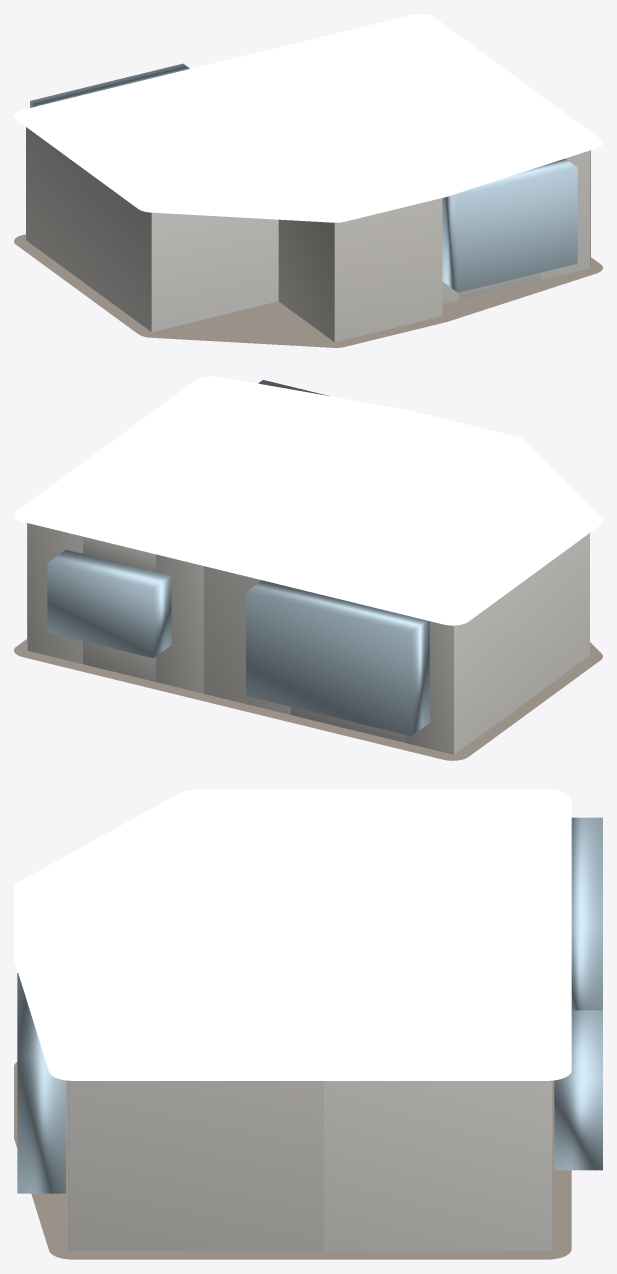
File: apartment.glb
3 views of the same model, one above another, from view 1: azimuth 30°, elevation 25°; view 2: azimuth 150°, elevation 25°; view 3: azimuth 270°, elevation 25° (orthographic). The views are drawn at different scales.
Parts seen in each view (by area): view 1: ceiling_material_270, architecture_0002_material_002, architecture_0412_material_247, architecture_0318_material_181, architecture_0461_material_271, architecture_0315_material_178, architecture_0005_material_005; view 2: ceiling_material_270, architecture_0002_material_002, architecture_0005_material_005, architecture_0119_material_102, architecture_0122_material_105, architecture_0461_material_271; view 3: ceiling_material_270, architecture_0315_material_178, architecture_0119_material_102, architecture_0461_material_271, architecture_0318_material_181, architecture_0122_material_105, architecture_0005_material_005.
Part boxes in pixels (x1=…): ceiling_material_270: x1=14, y1=14, x2=602, y2=222; architecture_0002_material_002: x1=26, y1=127, x2=278, y2=331; architecture_0412_material_247: x1=278, y1=198, x2=442, y2=342; architecture_0318_material_181: x1=442, y1=158, x2=577, y2=292; architecture_0461_material_271: x1=14, y1=234, x2=602, y2=347; architecture_0315_material_178: x1=442, y1=150, x2=590, y2=303; architecture_0005_material_005: x1=30, y1=63, x2=189, y2=107; ceiling_material_270: x1=14, y1=376, x2=602, y2=625; architecture_0002_material_002: x1=204, y1=533, x2=589, y2=754; architecture_0005_material_005: x1=246, y1=580, x2=429, y2=736; architecture_0119_material_102: x1=27, y1=523, x2=203, y2=693; architecture_0122_material_105: x1=47, y1=549, x2=171, y2=658; architecture_0461_material_271: x1=14, y1=639, x2=602, y2=760; ceiling_material_270: x1=14, y1=789, x2=571, y2=1080; architecture_0315_material_178: x1=68, y1=1080, x2=323, y2=1250; architecture_0119_material_102: x1=324, y1=1080, x2=552, y2=1250; architecture_0461_material_271: x1=14, y1=1062, x2=571, y2=1259; architecture_0318_material_181: x1=17, y1=973, x2=65, y2=1193; architecture_0122_material_105: x1=554, y1=1010, x2=602, y2=1170; architecture_0005_material_005: x1=571, y1=817, x2=602, y2=1010.
Size of the model in its own units: 9.9 by 2.83 by 8.45.
